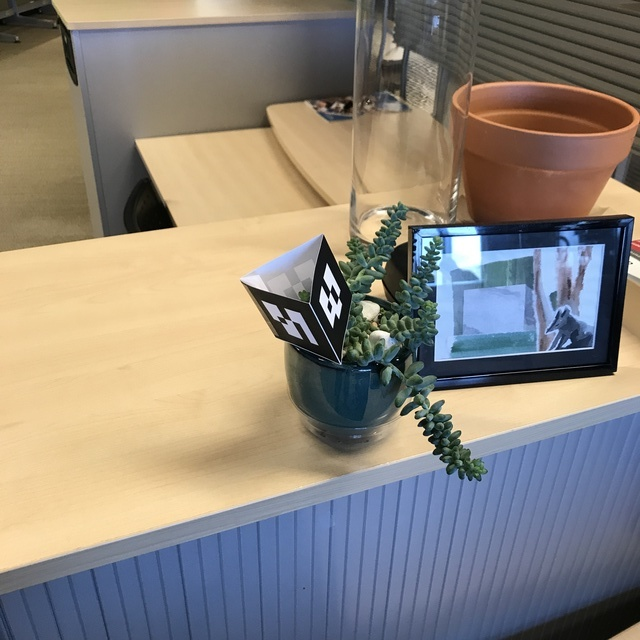ARTag: (240, 233, 352, 370)
